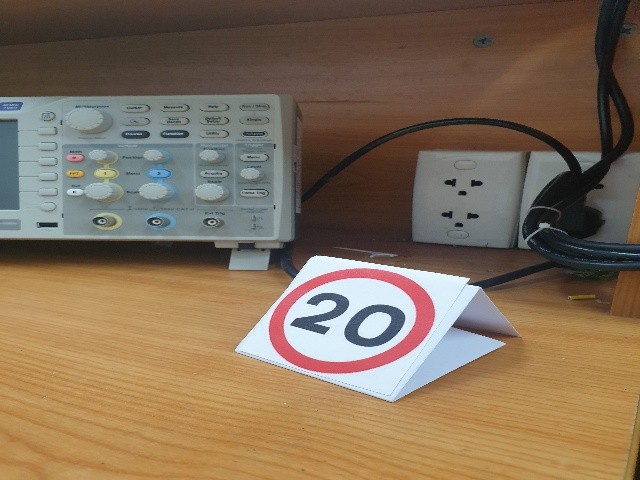Limit 20: (269, 268, 436, 372)
